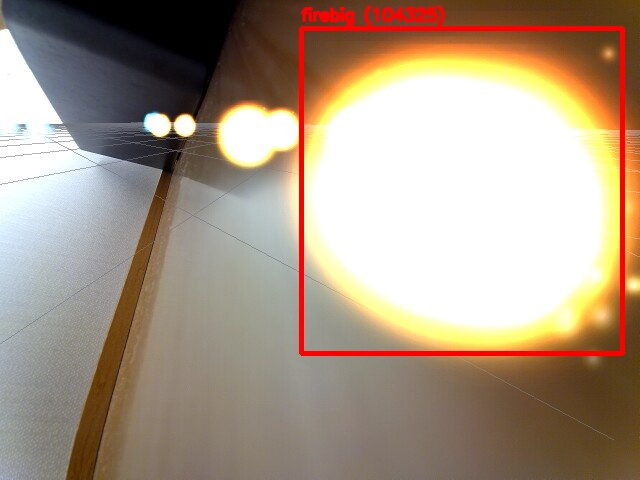firebig: (301, 28, 622, 353)
